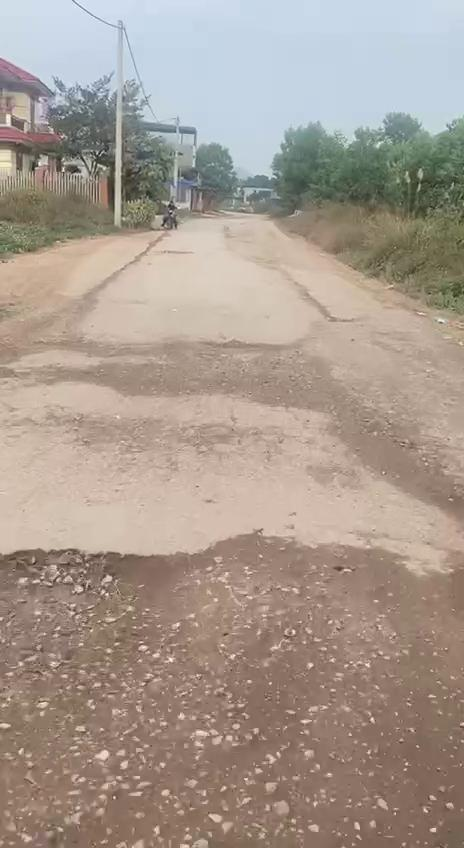pothole: (0, 547, 228, 696)
